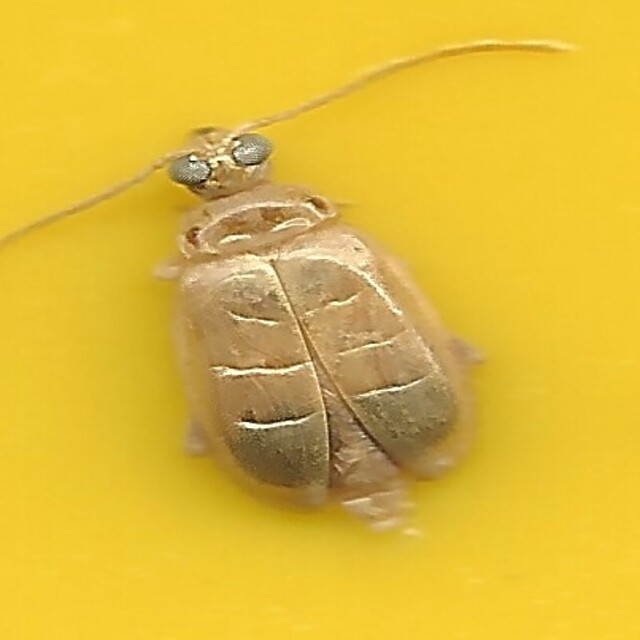Coleoptera: (159, 125, 481, 515)
